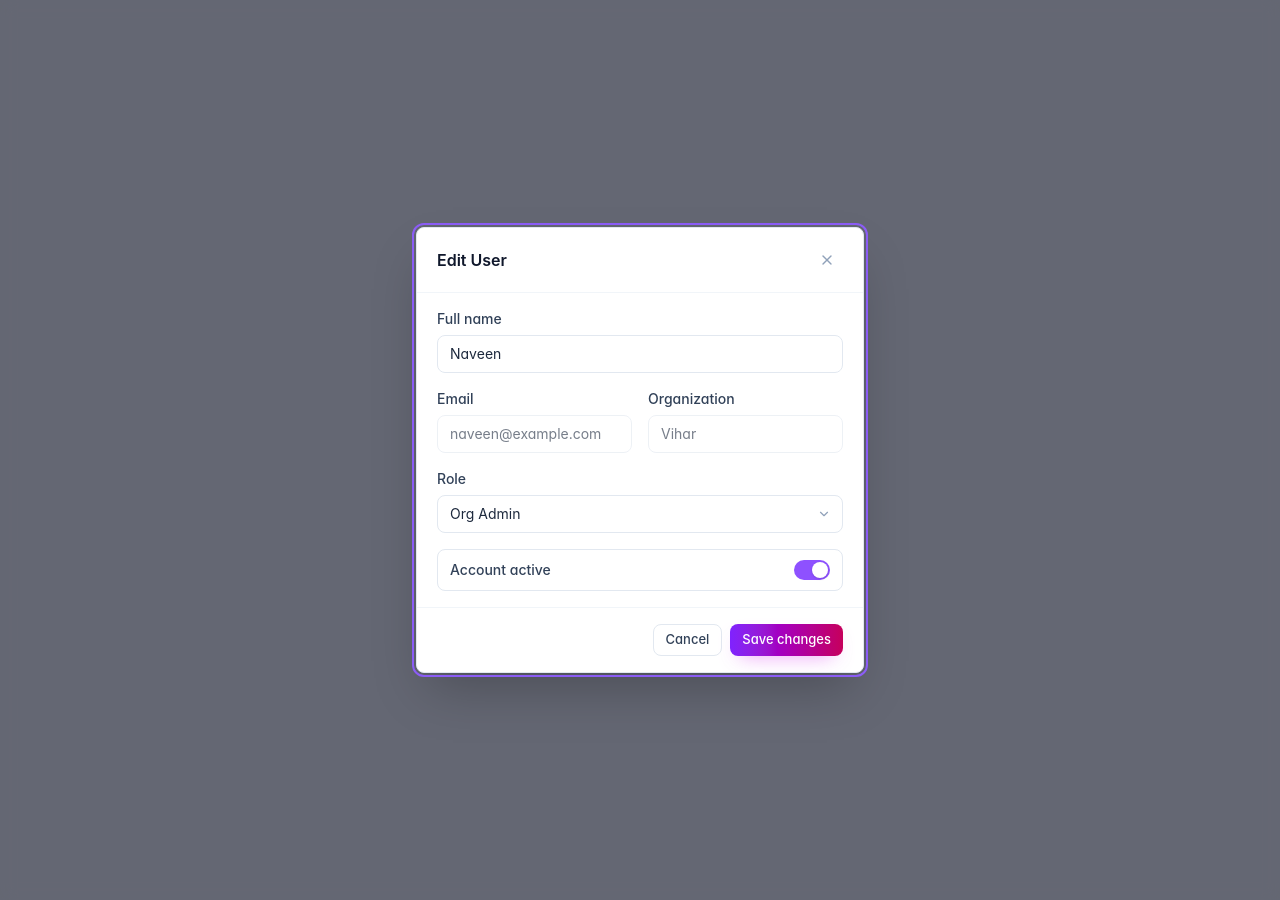
Scenario: promoting to Super Admin without an identity elevation › treats an expired grant as expired, not as active
Select "Super Admin" in the dropdown: coordinates (640, 514) left=437, top=495, right=843, bottom=533
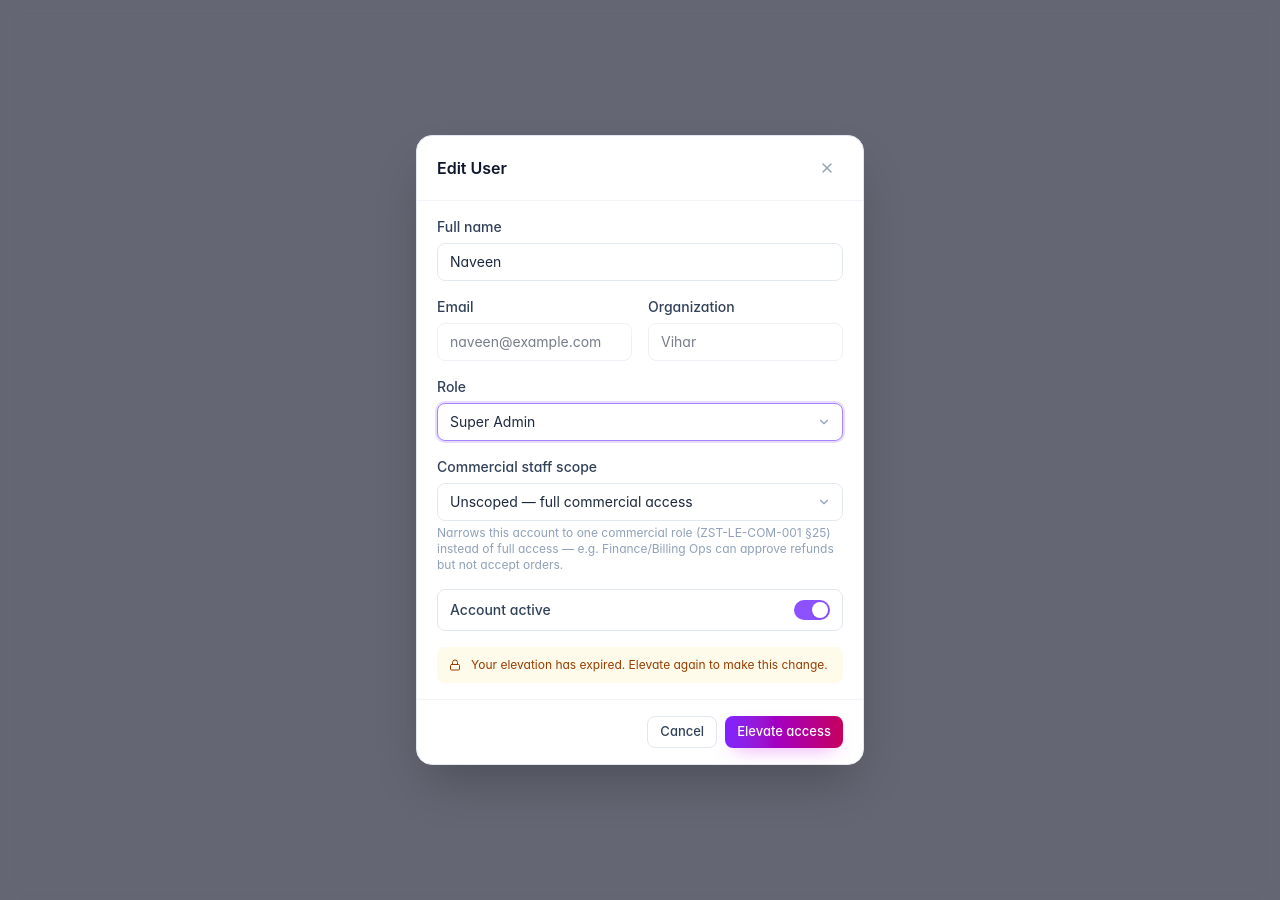
Check: the message shows "expired", box left=471, top=657, right=828, bottom=672
Check: the button "Save changes" is gone
